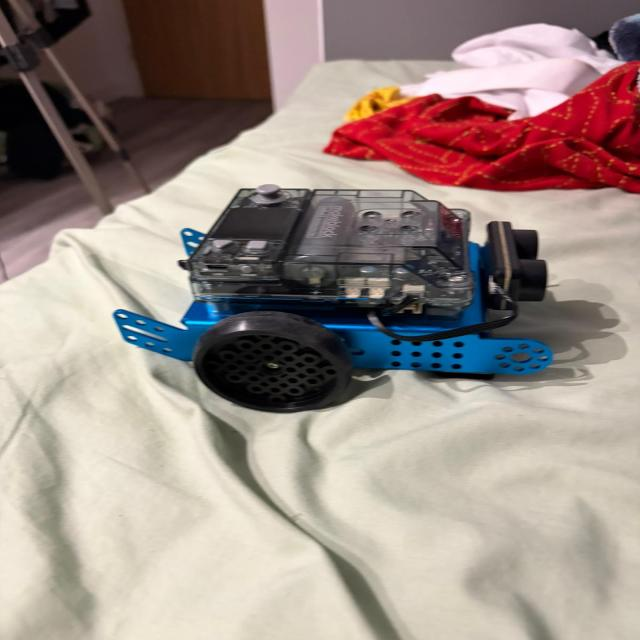mbot-detection: (108, 180, 563, 416)
